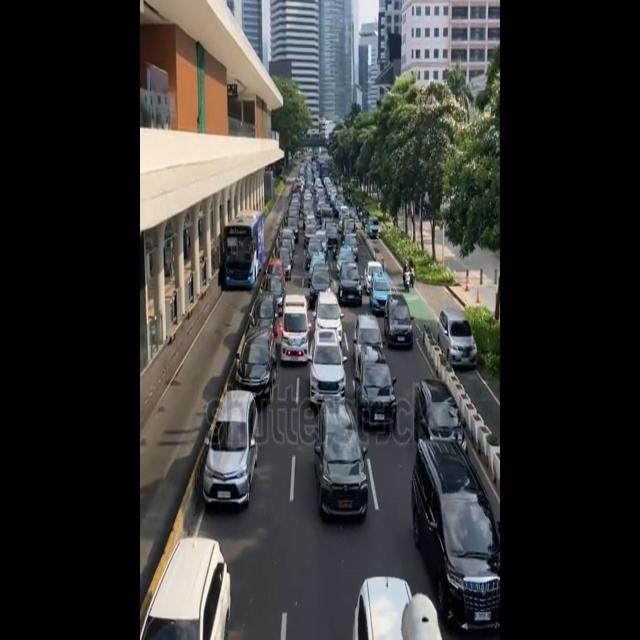Ambulance: (275, 287, 317, 368)
